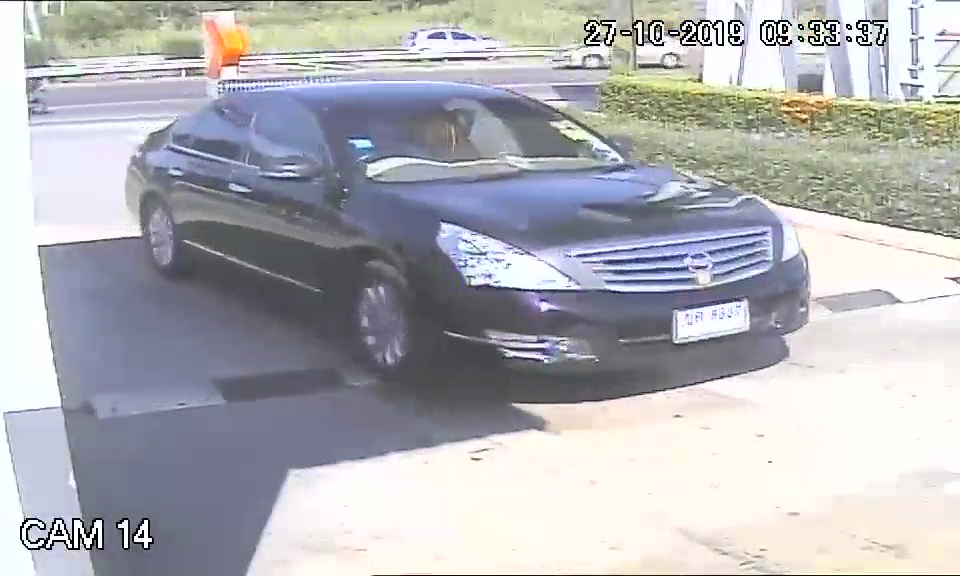sedan: (117, 75, 816, 384)
